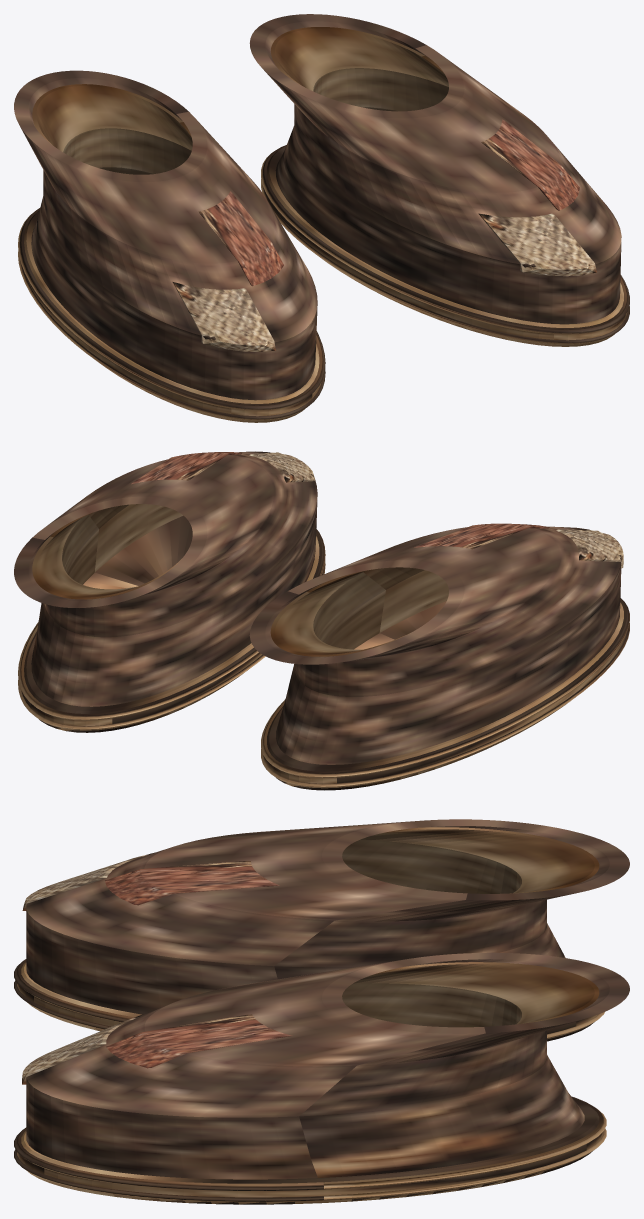
3 renders of one model, top to bottom at view 1: azimuth 30°, elevation 25°; view 2: azimuth 150°, elevation 25°; view 3: azimuth 270°, elevation 25°, orthographic. The views are drawn at different scales.
Parts seen in each view (by area): view 1: right_upper, left_upper, right_lining, left_lining, right_sole, right_patch_0, left_sole, left_patch_0, left_patch_1, right_rope_band_1, right_patch_1, left_rope_band_1 (+2 smaller); view 2: left_upper, right_upper, left_lining, right_lining, left_sole, right_sole, left_rope_band_1, right_rope_band_1, left_rope_band_0, left_patch_1, right_patch_1, left_patch_0 (+2 smaller); view 3: right_upper, left_upper, left_lining, right_lining, right_sole, right_rope_band_1, right_patch_1, left_patch_1, right_rope_band_0, left_sole, right_patch_0, left_patch_0 (+2 smaller).
Part boxes in pixels (<box>): right_upper: <box>249,14,621,324</box>; left_upper: <box>14,70,317,400</box>; right_lining: <box>270,27,448,111</box>; left_lining: <box>32,84,192,174</box>; right_sole: <box>264,146,627,346</box>; right_patch_0: <box>478,213,596,276</box>; left_sole: <box>23,210,321,422</box>; left_patch_0: <box>172,282,275,351</box>; left_patch_1: <box>198,191,283,286</box>; right_rope_band_1: <box>261,145,629,334</box>; right_patch_1: <box>481,119,579,210</box>; left_rope_band_1: <box>18,208,325,410</box>; left_upper: <box>249,526,621,764</box>; right_upper: <box>14,451,317,706</box>; left_lining: <box>270,567,448,656</box>; right_lining: <box>32,504,182,599</box>; left_sole: <box>263,602,625,790</box>; right_sole: <box>22,536,319,732</box>; left_rope_band_1: <box>261,598,629,778</box>; right_rope_band_1: <box>18,529,325,720</box>; left_rope_band_0: <box>261,623,629,788</box>; left_patch_1: <box>414,523,549,549</box>; right_patch_1: <box>131,452,241,484</box>; left_patch_0: <box>556,529,623,568</box>; right_upper: <box>26,952,629,1179</box>; left_upper: <box>26,819,629,1014</box>; left_lining: <box>342,827,599,893</box>; right_lining: <box>342,962,599,1027</box>; right_sole: <box>17,1097,603,1204</box>; right_rope_band_1: <box>14,1096,606,1190</box>; right_patch_1: <box>106,1014,292,1068</box>; left_patch_1: <box>105,861,279,905</box>; right_rope_band_0: <box>14,1128,606,1202</box>; left_sole: <box>17,962,596,1041</box>; right_patch_0: <box>22,1014,144,1084</box>; left_patch_0: <box>22,852,154,910</box>.
Size of the model in its own units: 114 by 30.67 by 113.
5 materials, 5 textured.
